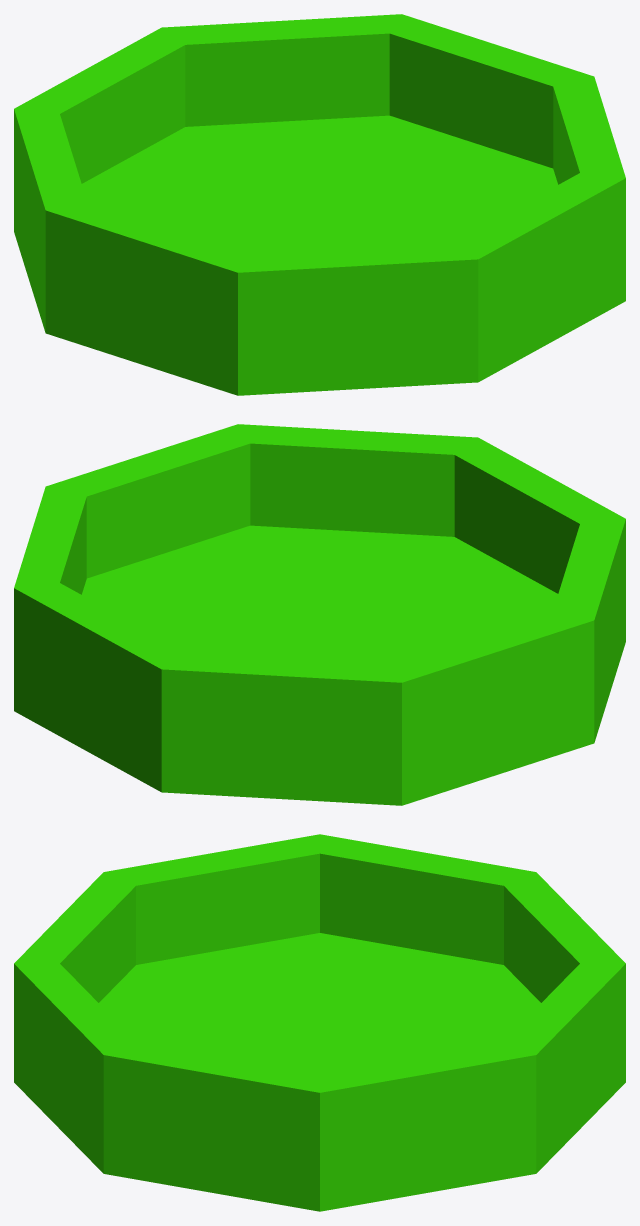
The model's file is fountain02_round.fbx.
3 renders of one model, top to bottom at view 1: azimuth 30°, elevation 25°; view 2: azimuth 150°, elevation 25°; view 3: azimuth 270°, elevation 25°, orthographic. The views are drawn at different scales.
Parts seen in each view (by area): view 1: fountain02_round; view 2: fountain02_round; view 3: fountain02_round.
Boxes of the visible parts, x1,y1,x2,y2 form: fountain02_round: [14, 14, 625, 395]; fountain02_round: [14, 424, 625, 805]; fountain02_round: [14, 834, 625, 1211].
Bounding box in the file's own units: 280 × 60 × 280.
